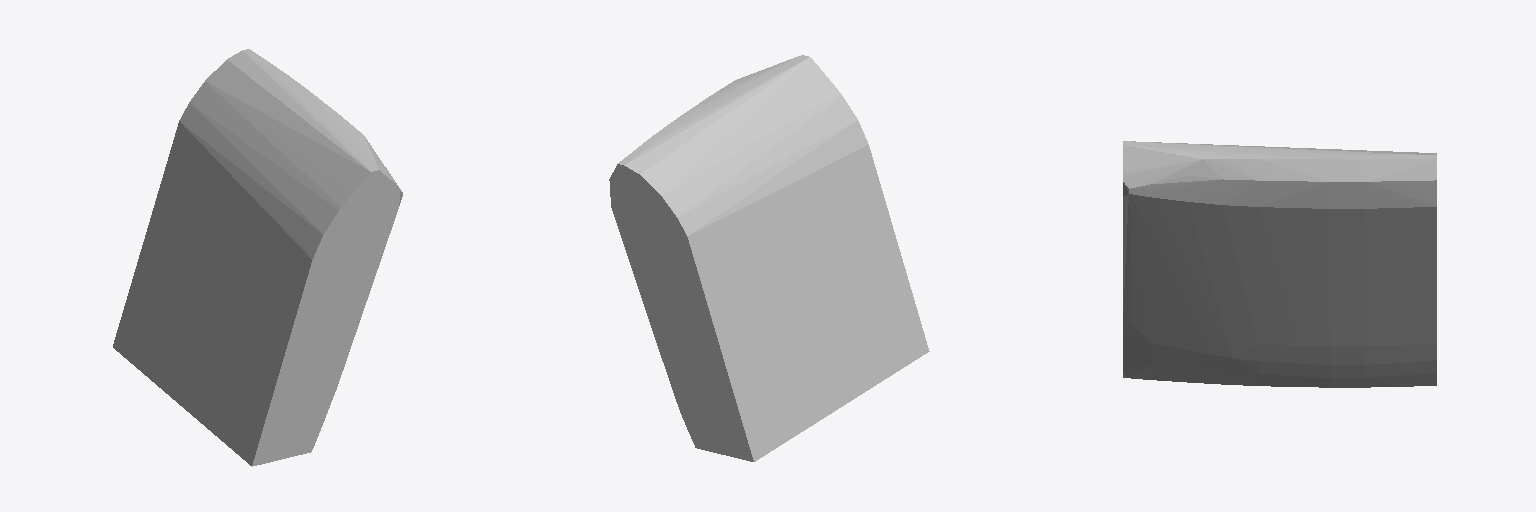
The model's file is pan_collision_26.obj.
3 renders of one model, left to right at view 1: azimuth 30°, elevation 25°; view 2: azimuth 150°, elevation 25°; view 3: azimuth 270°, elevation 25°, orthographic.
Size of the model in its own units: 0.0222 by 0.034 by 0.0365.